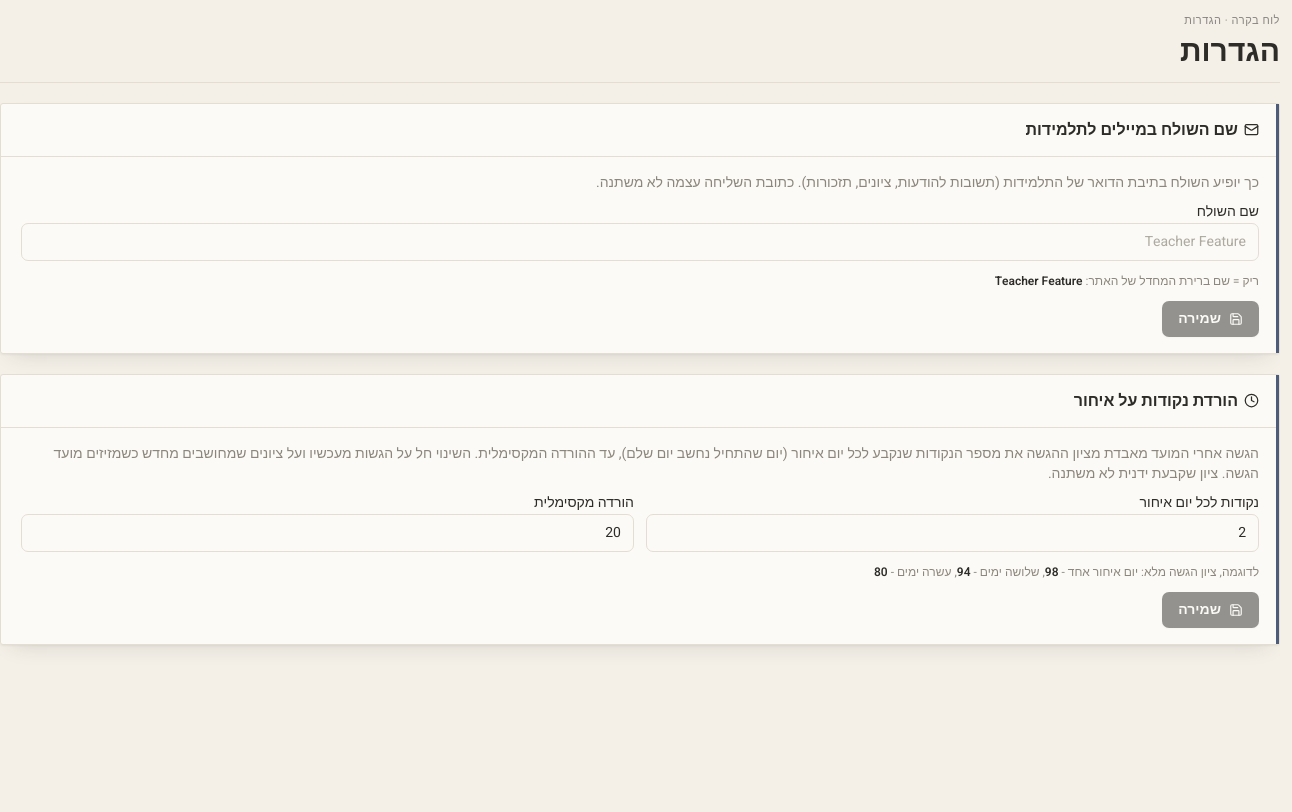
Scenario: Teacher settings - the late penalty › saves the penalty she sets
This screenshot has width=1292, height=812.
Replace the text in the number field labelled "נקודות לכל יום איחור" with "5": (952, 533) [646, 514, 1259, 552]
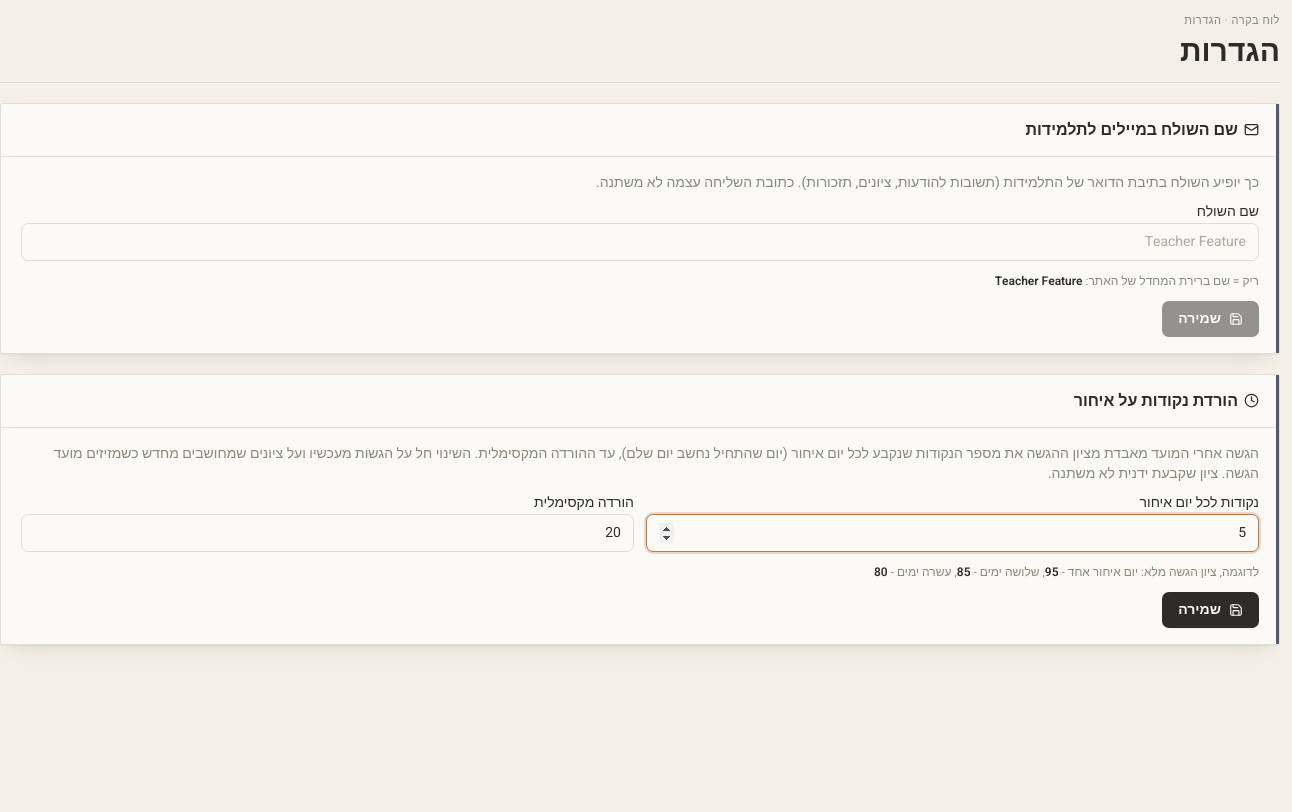
Replace the text in the number field labelled "הורדה מקסימלית" with "30": (328, 533) [21, 514, 634, 552]
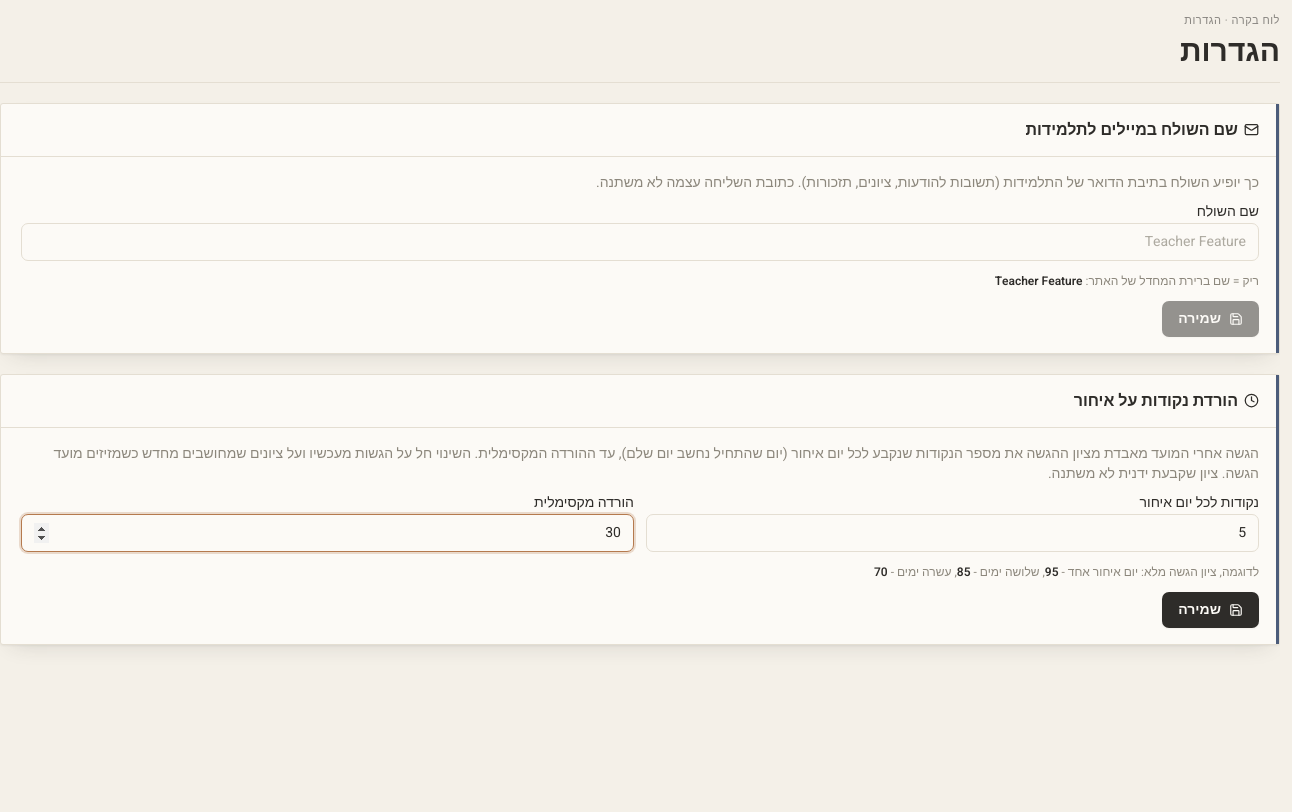
Click the button "שמירה" below "לדוגמה, ציון הגשה מלא: יום איחור אחד -": (1211, 610) [1162, 592, 1259, 628]
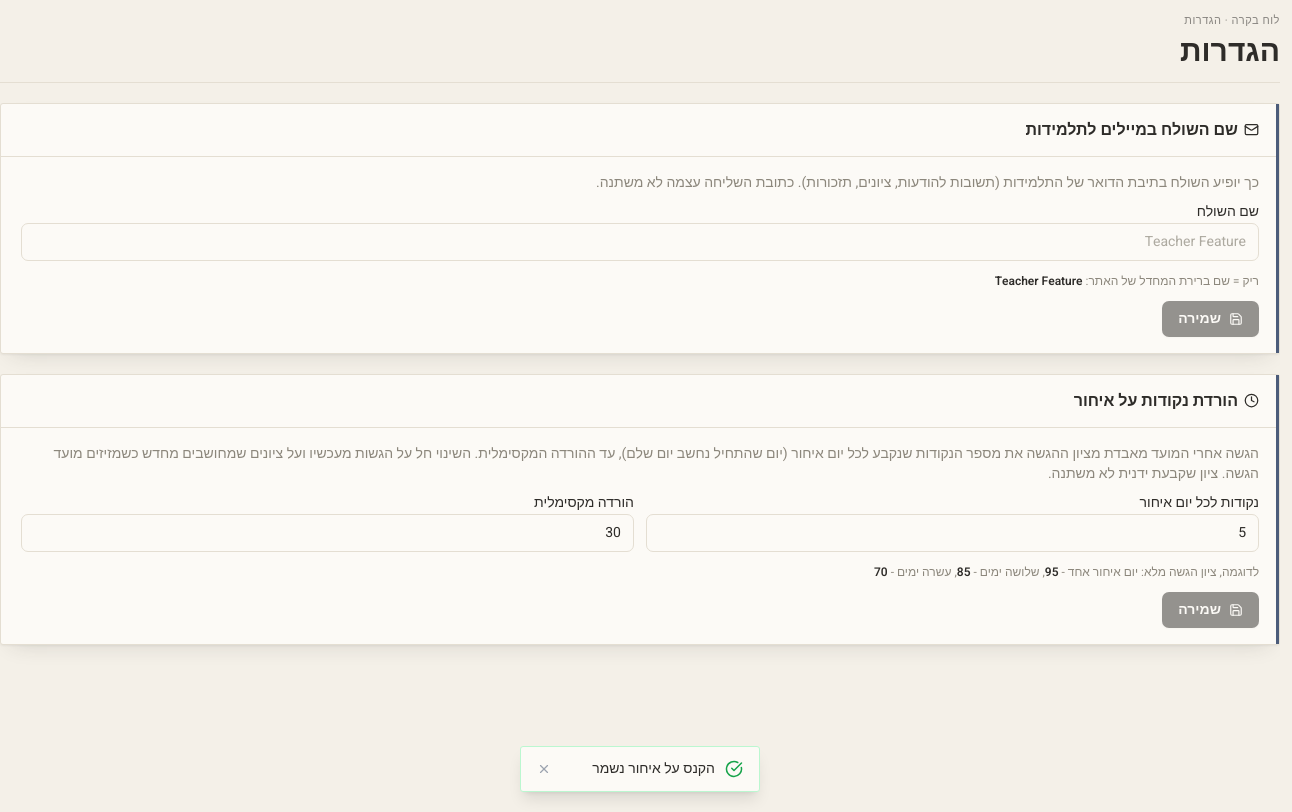
Expected: the text "הקנס על איחור נשמר" is shown, [592, 758, 715, 779]
